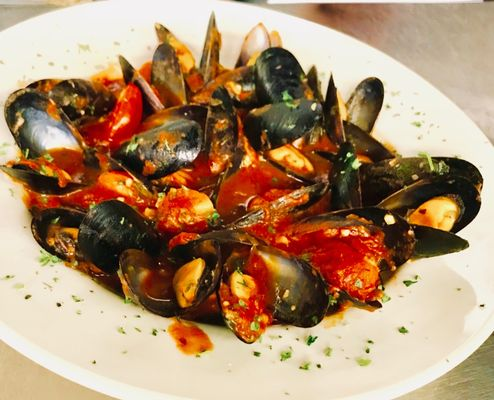sandwich: (0, 3, 493, 391)
